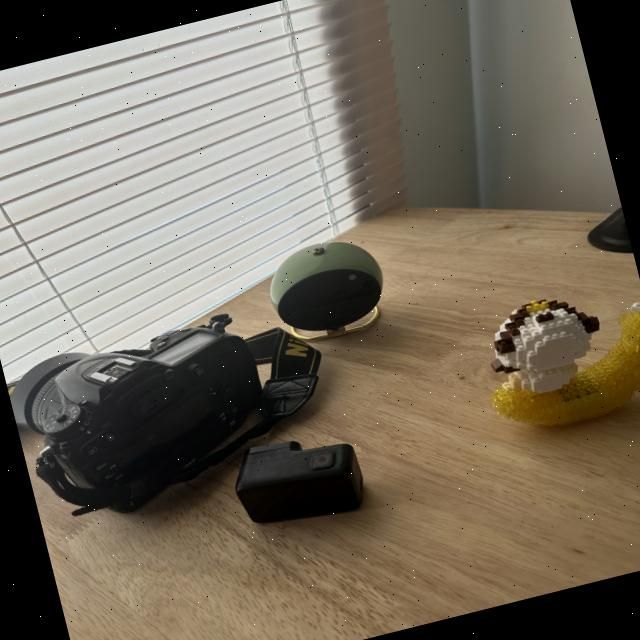actioncam: (206, 402, 416, 554)
camera: (0, 262, 358, 536)
clock: (243, 220, 412, 368)
toy: (431, 258, 640, 486)
